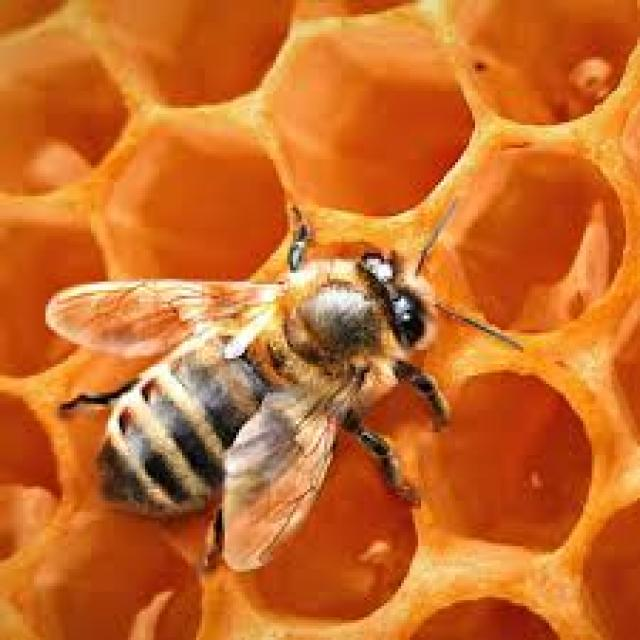Bees: (44, 203, 525, 578)
